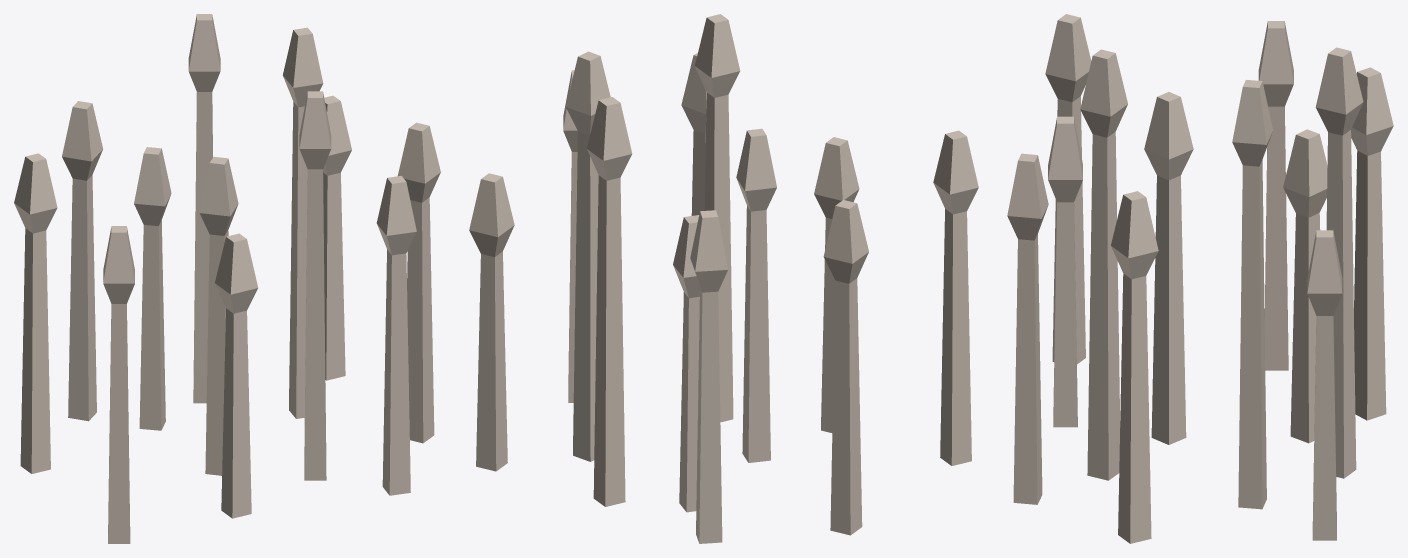
File: crops_wheatStageB.glb
3 renders of one model, left to right at view 1: azimuth 30°, elevation 25°; view 2: azimuth 150°, elevation 25°; view 3: azimuth 270°, elevation 25°, orthographic. The views are drawn at different scales.
Visible parts, largest first — view 1: crops_wheatStageB; view 2: crops_wheatStageB; view 3: crops_wheatStageB.
Part boxes in pixels (x1,y1,x2,y2): crops_wheatStageB: (14, 14, 440, 543); crops_wheatStageB: (469, 14, 978, 543); crops_wheatStageB: (1007, 14, 1393, 543).
Size of the model in its own units: 0.5396 by 0.5349 by 0.4467.
